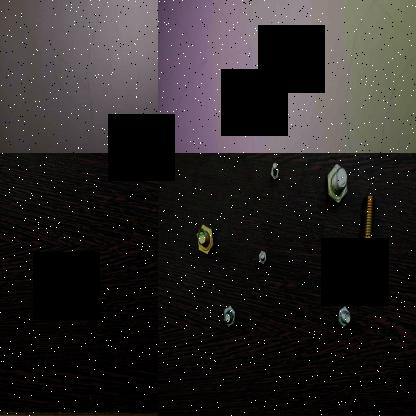Bolts: (354, 192, 378, 258), (322, 160, 351, 208), (194, 219, 218, 256), (335, 299, 351, 334), (221, 298, 238, 328), (268, 159, 280, 182)
